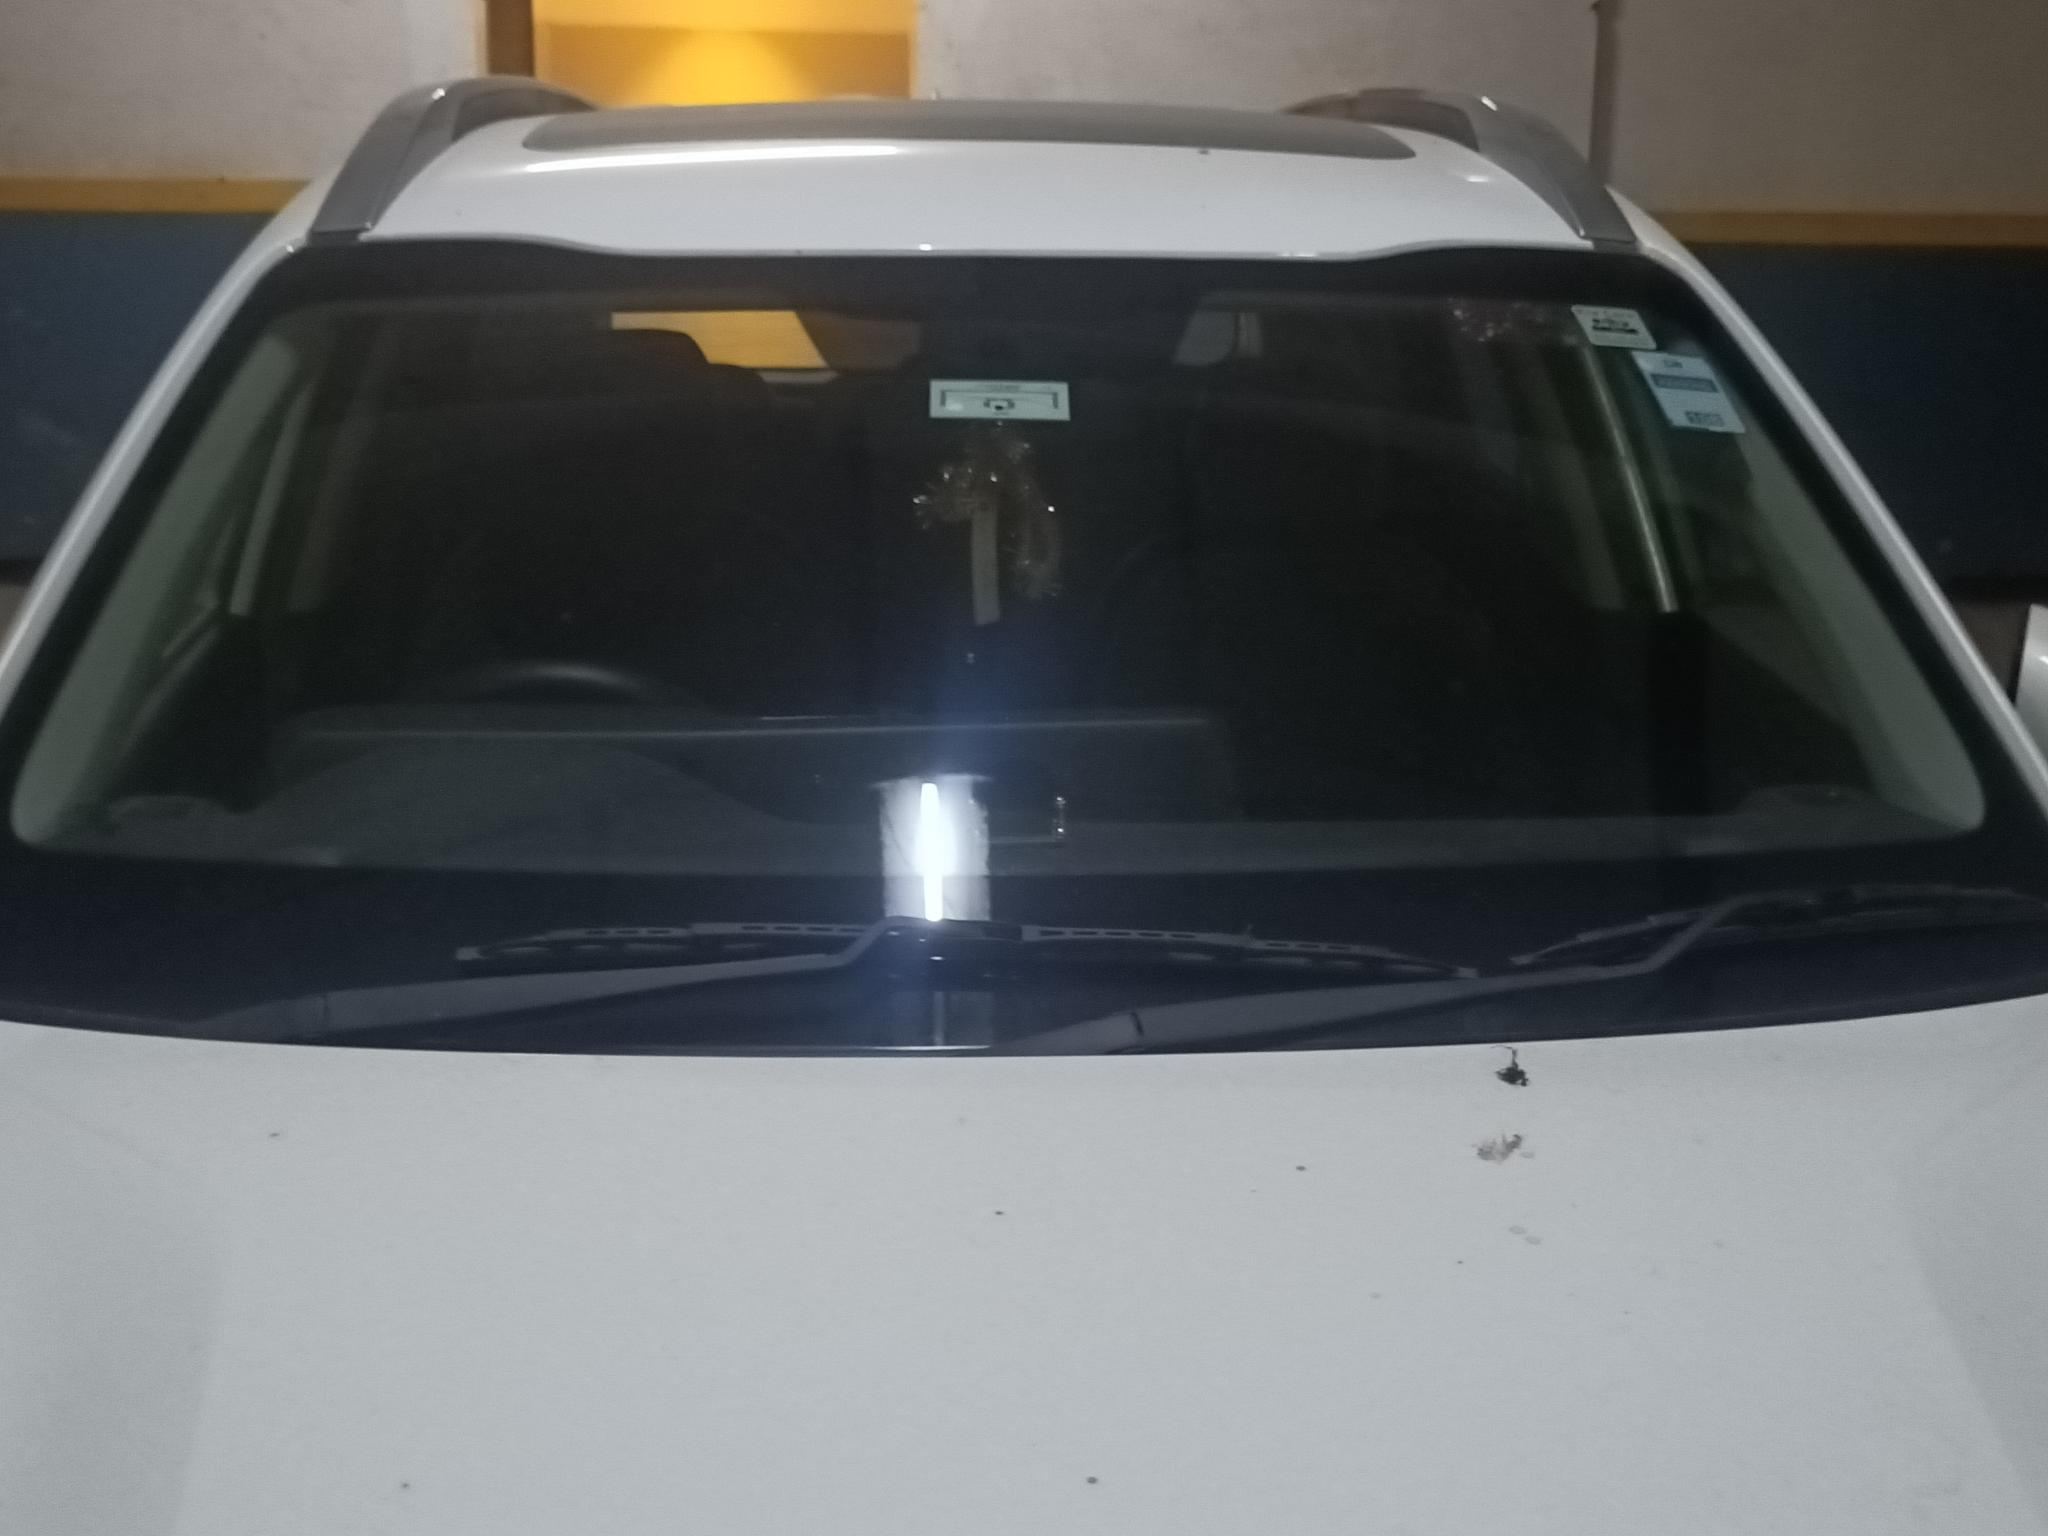FastTag: (901, 342, 1092, 444)
not a FastTag: (1630, 344, 1756, 457), (1550, 297, 1663, 361)
